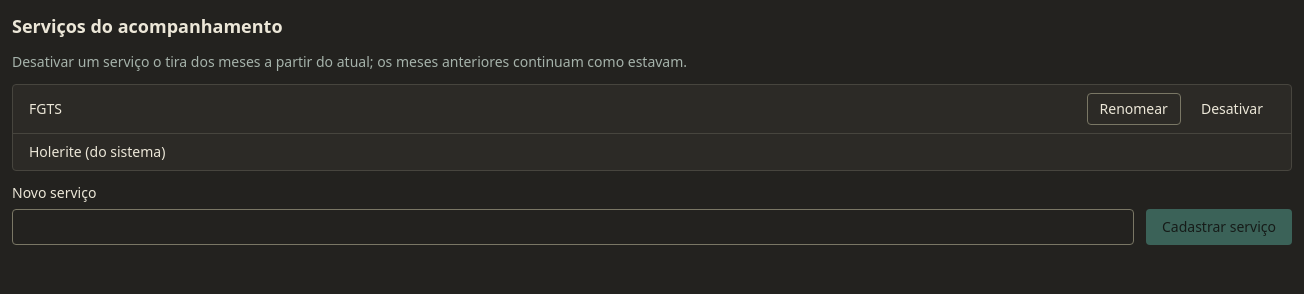
Test: ServicosDoAcompanhamentoContainer › erro inesperado do servidor aparece com a mensagem genérica
This screenshot has width=1304, height=294.
In the field labelled "Novo serviço": (573, 227) [12,209,1134,245], type "Contribuição"
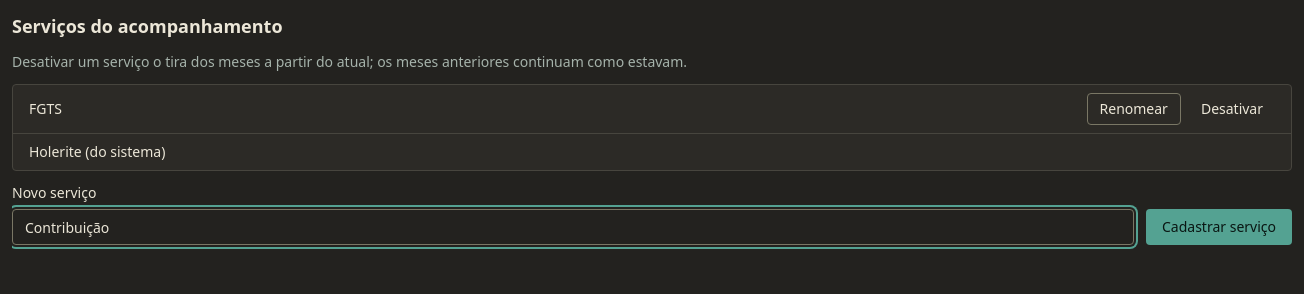
Click the button "Cadastrar serviço": (1219, 227) [1146,209,1292,245]
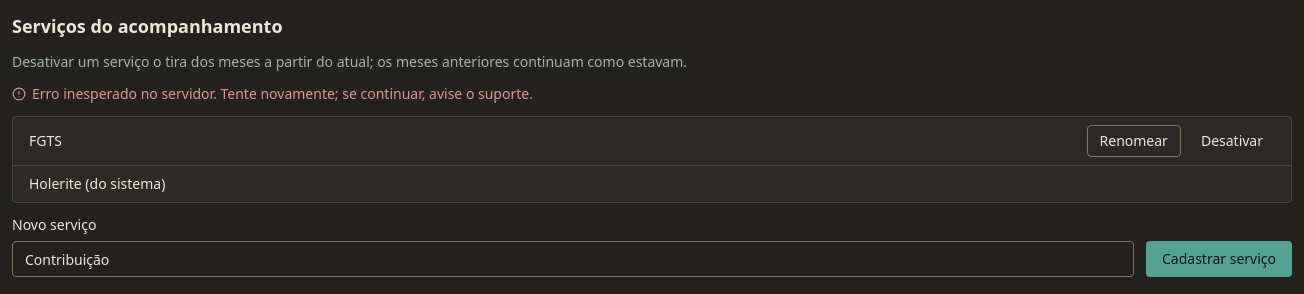
expect the message shows "Erro inesperado no servidor": met, box [32,84,533,103]
